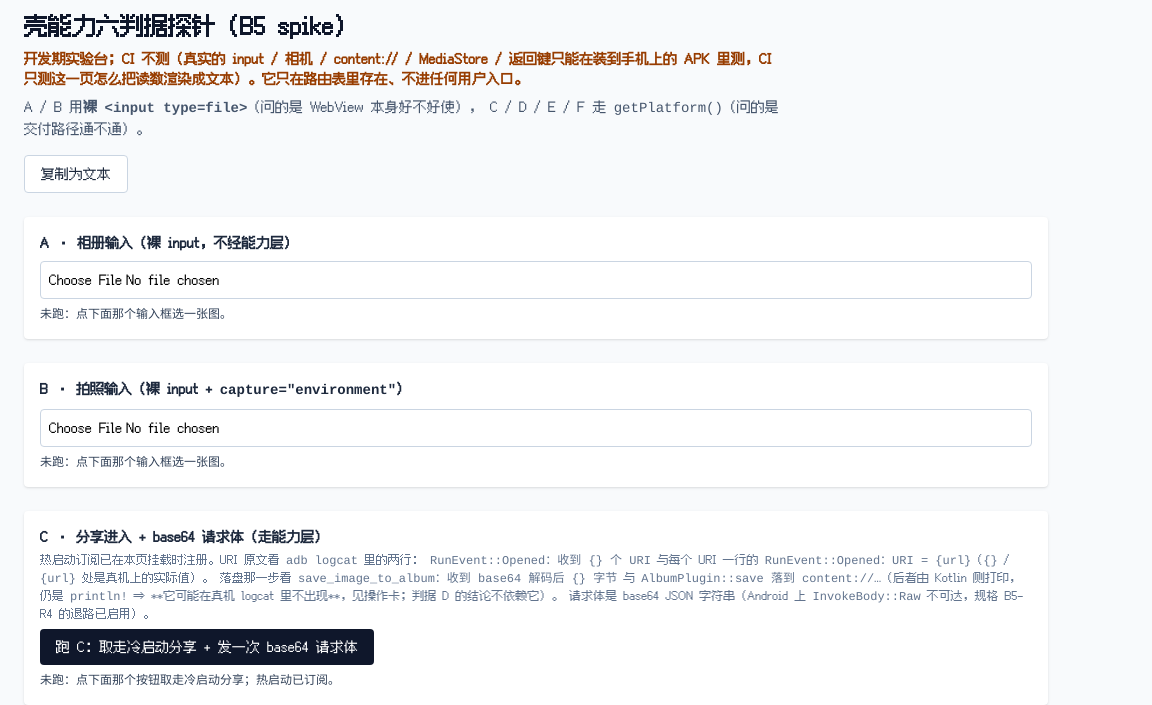
Test: /lab/shell 探针页 › C / D 走能力层：C 取走冷启动分享 + 探针图走保存链；D 保存的是 canvasToBlob 产出的那颗 blob（恒等）
Step 1. Click the button with test id "probe-run-c" → (207, 647), box x1=40 y1=629 x2=374 y2=665
(page scrolled)
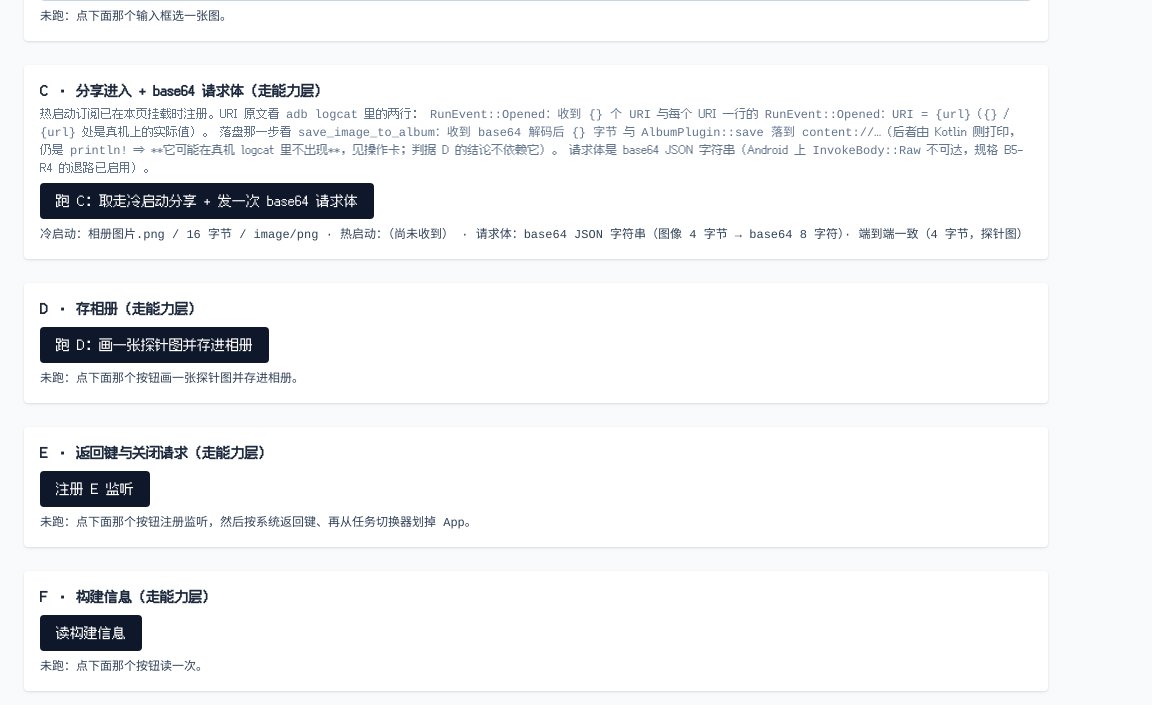
Expected: the text with test id "reading-c" shows "请求体：base64 JSON 字符串（图像 4 字节 → base64 8 字符）", x1=40 y1=228 x2=1029 y2=242
Expected: the text with test id "reading-c" shows "端到端一致（4 字节，探针图）", x1=40 y1=228 x2=1029 y2=242
Step 2. Click the button with test id "probe-run-d" → (155, 345), box x1=40 y1=327 x2=269 y2=363
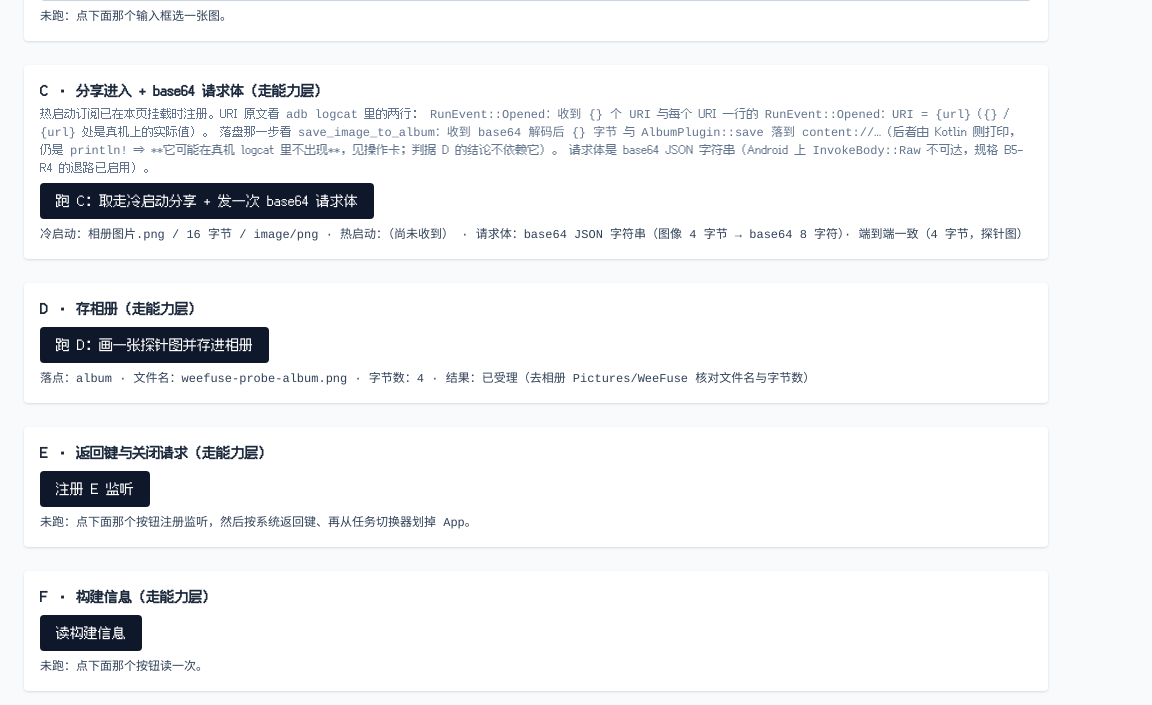
Expected: the text with test id "reading-d" shows "落点：album", x1=40 y1=372 x2=815 y2=386
Expected: the text with test id "reading-d" shows "文件名：weefuse-probe-album.png", x1=40 y1=372 x2=815 y2=386
Expected: the text with test id "reading-d" shows "字节数：4", x1=40 y1=372 x2=815 y2=386
Step 3. Click the button with test id "probe-run-d" → (155, 345), box x1=40 y1=327 x2=269 y2=363
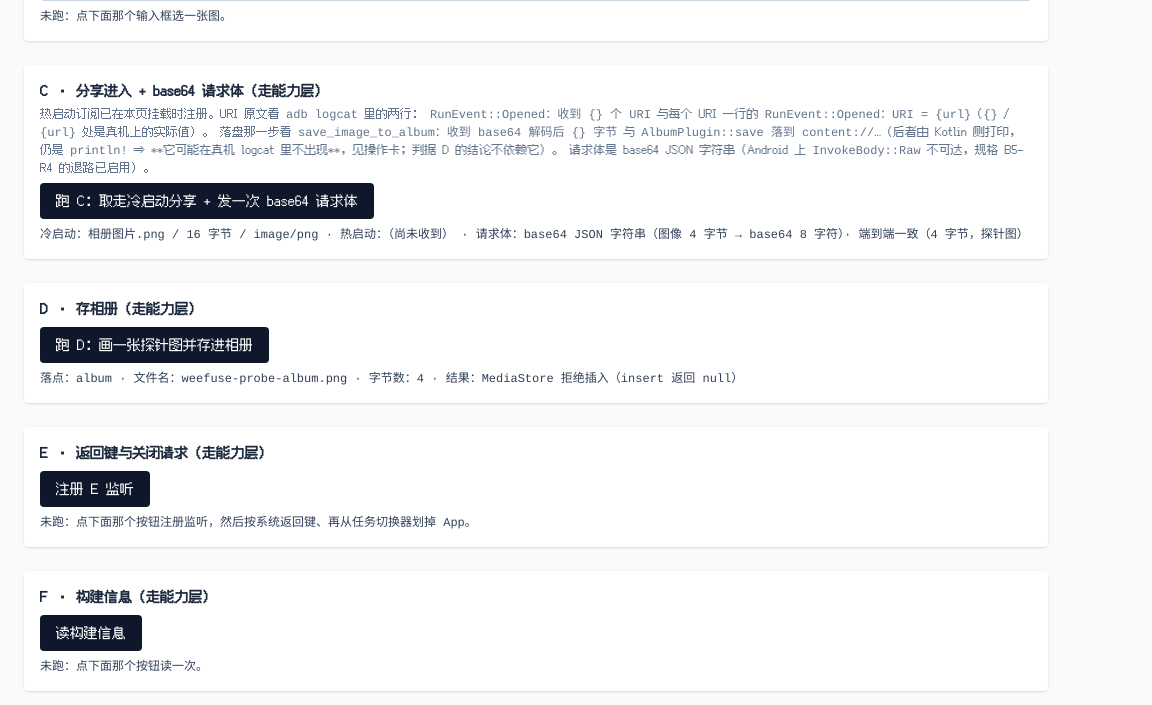
Expected: the text with test id "reading-d" shows "结果：MediaStore 拒绝插入（insert 返回 null）", x1=40 y1=372 x2=743 y2=386
